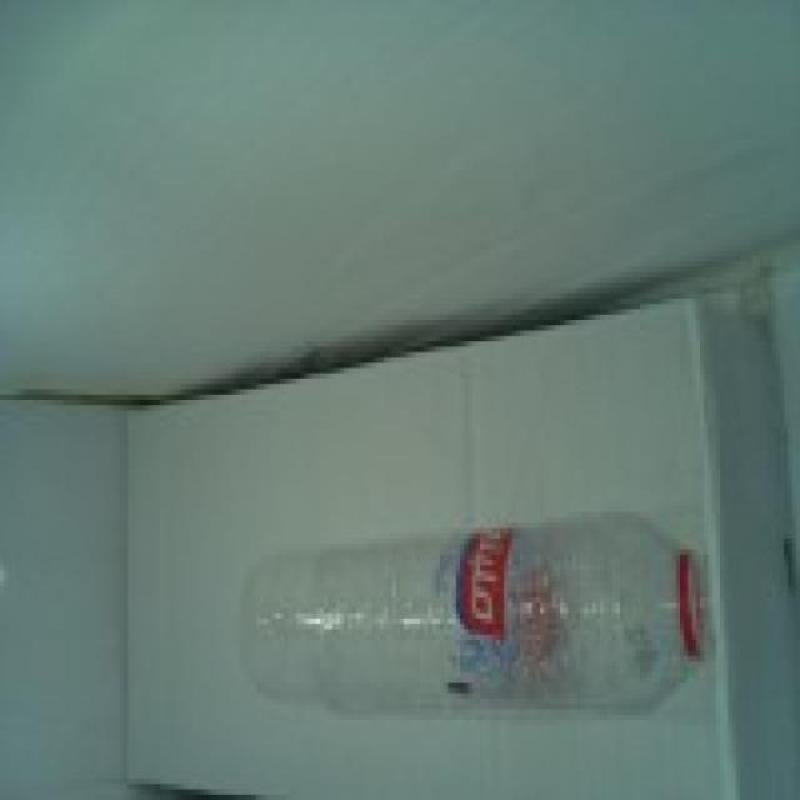botella: (246, 512, 716, 722)
